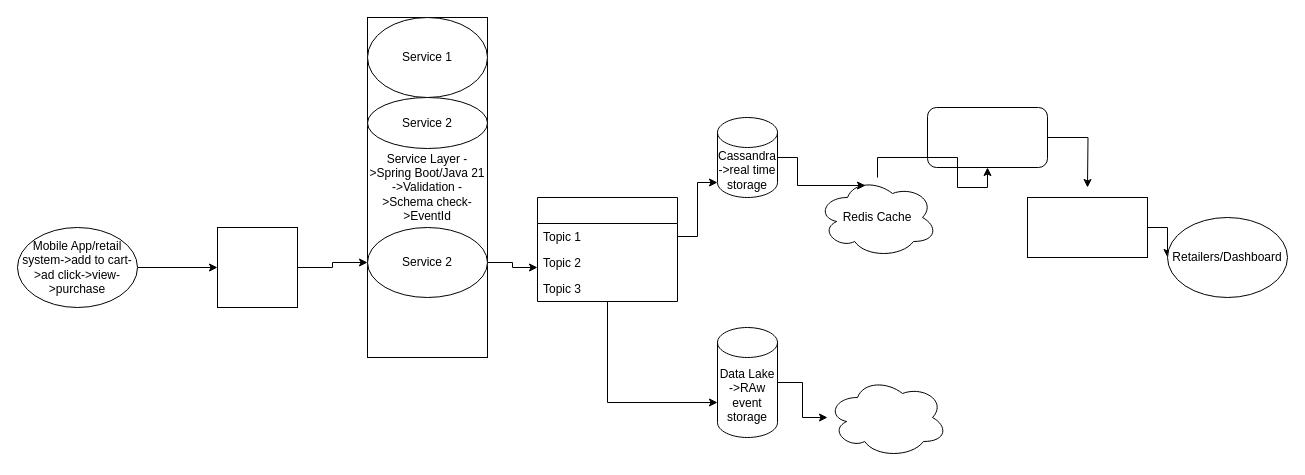
Image size: 1305x475. Some labels were removed from this diagram. Each missing label, with the box of its shape:
API Gateway: (1026, 196, 1148, 258)
API Gateway->OAuth2->Rate limiting: (216, 226, 298, 308)
Insight APi Service->/clicks/clicktoBasket/impressions: (926, 106, 1048, 168)
Kafka: (536, 196, 678, 302)
Snowflake: (826, 376, 948, 458)
